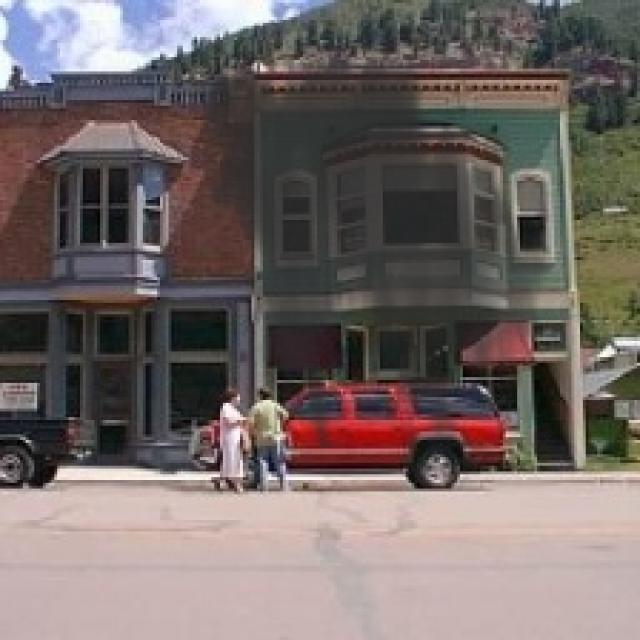smoke: (183, 29, 560, 448)
